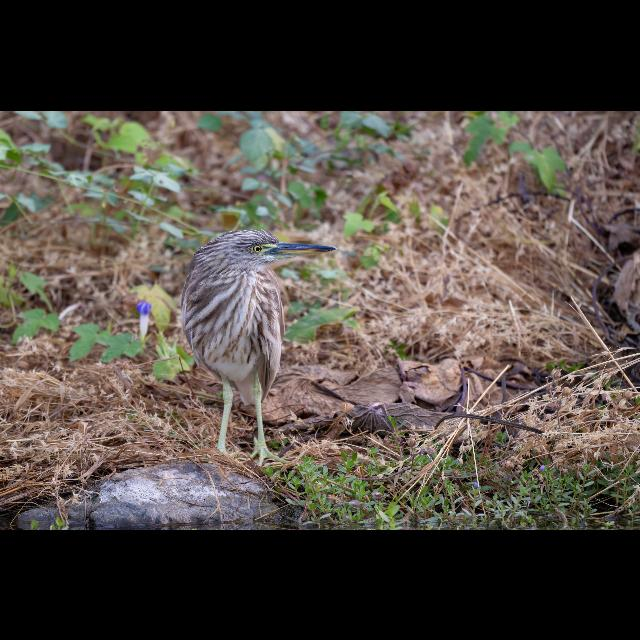heron: (182, 228, 336, 454)
